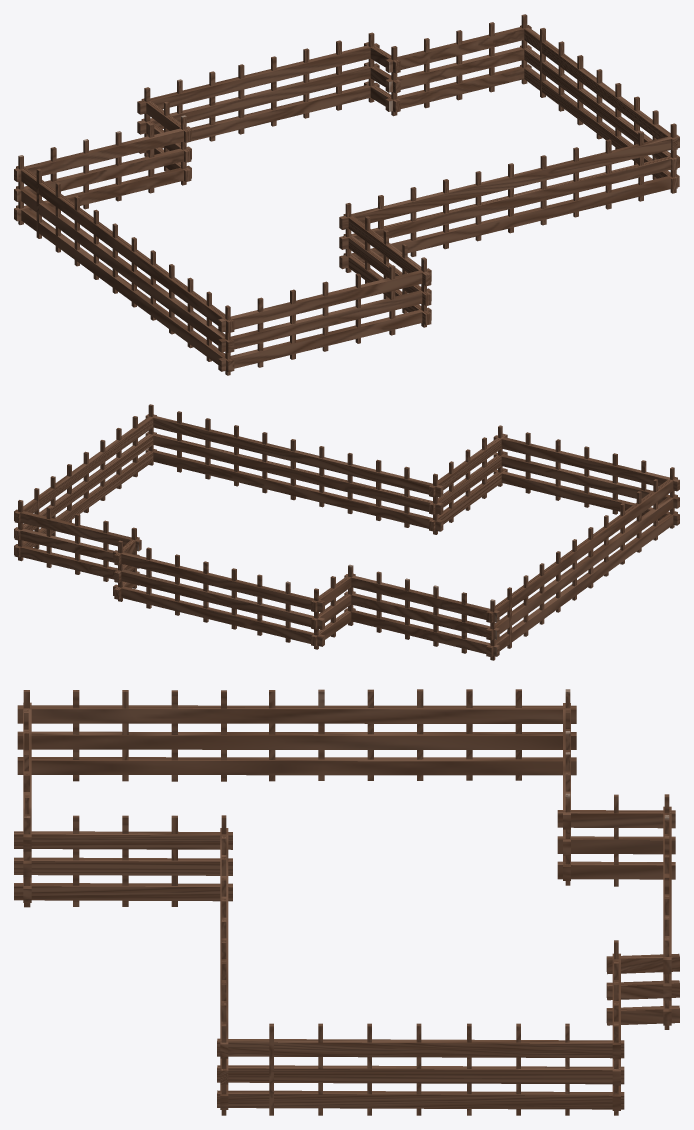
File: Zaun.fbx
The picture shows the model from 3 angles, top to bottom: view 1: azimuth 30°, elevation 25°; view 2: azimuth 150°, elevation 25°; view 3: azimuth 270°, elevation 25°; orthographic projection. The views are drawn at different scales.
Visible parts, largest first — view 1: Cube.063; view 2: Cube.063; view 3: Cube.063.
Part boxes in pixels (left/top/right/bottom): Cube.063: left=14, top=14, right=679, bottom=375; Cube.063: left=14, top=404, right=679, bottom=660; Cube.063: left=14, top=689, right=679, bottom=1115.
Size of the model in its own units: 822 by 100 by 675.
